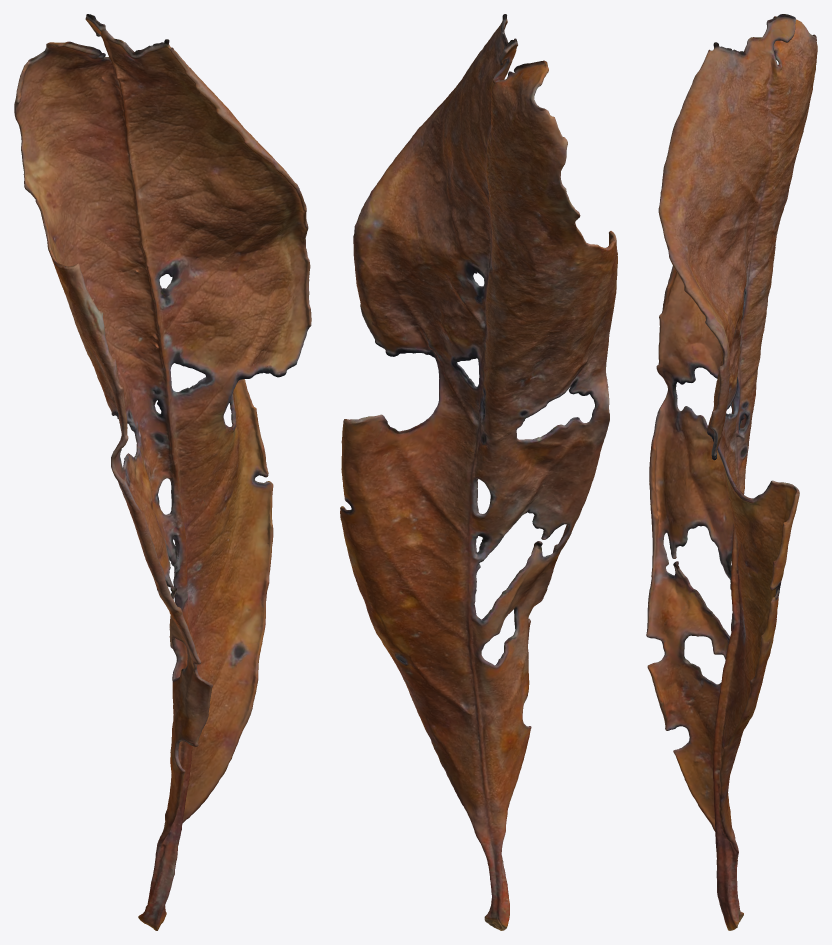
Rendered from dry_leaf_.rawscan.glb.
3 renders of one model, left to right at view 1: azimuth 30°, elevation 25°; view 2: azimuth 150°, elevation 25°; view 3: azimuth 270°, elevation 25°, orthographic. The views are drawn at different scales.
Visible parts, largest first — view 1: Object_2; view 2: Object_2; view 3: Object_2.
Part boxes in pixels (left/top/right/bottom): Object_2: left=14, top=14, right=311, bottom=930; Object_2: left=340, top=14, right=617, bottom=930; Object_2: left=646, top=14, right=817, bottom=930.
Size of the model in its own units: 1.39 by 4.73 by 0.8182.
Materials: 1 (1 with a texture image).
